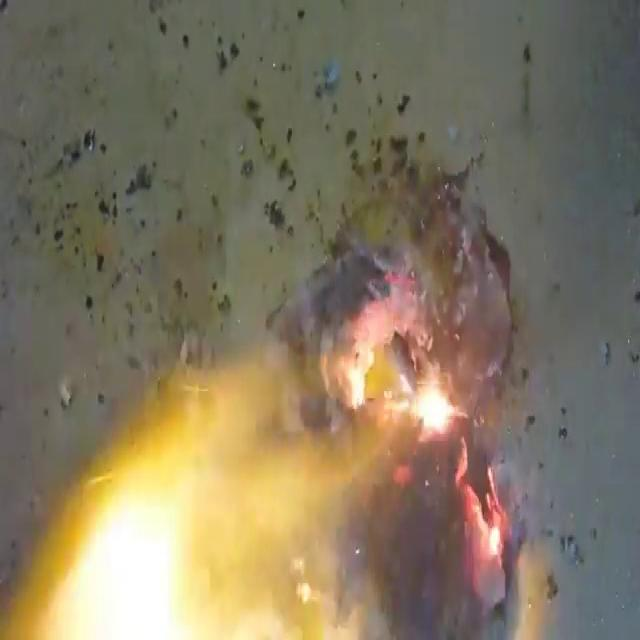Fire: (10, 141, 572, 640)
